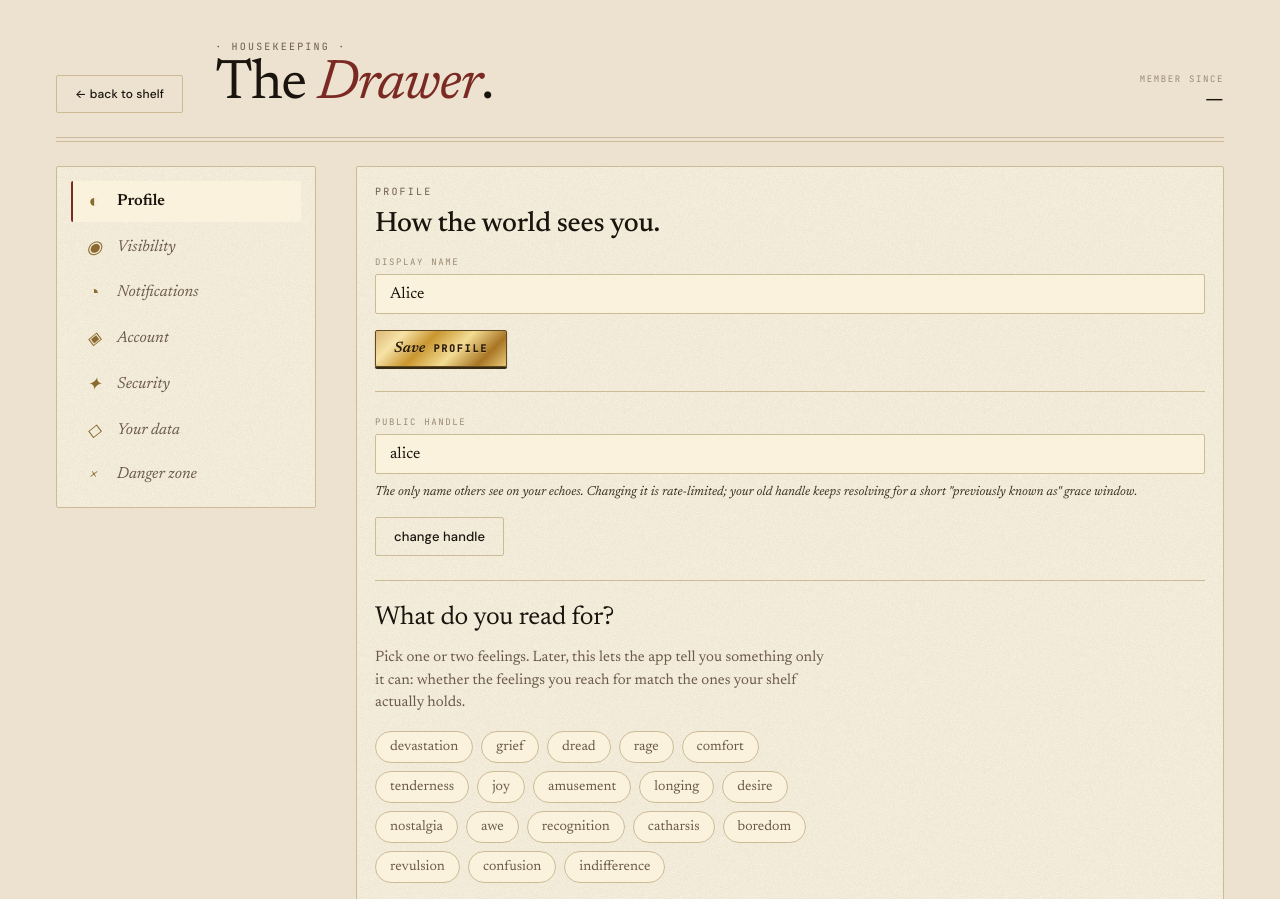
Test case: SettingsPage visibility control [F2.8 / B2.1] › loads and reflects the current profile_visibility
The image size is (1280, 899).
Click the button "◉ Visibility" at (186, 247), box [71, 226, 301, 268]
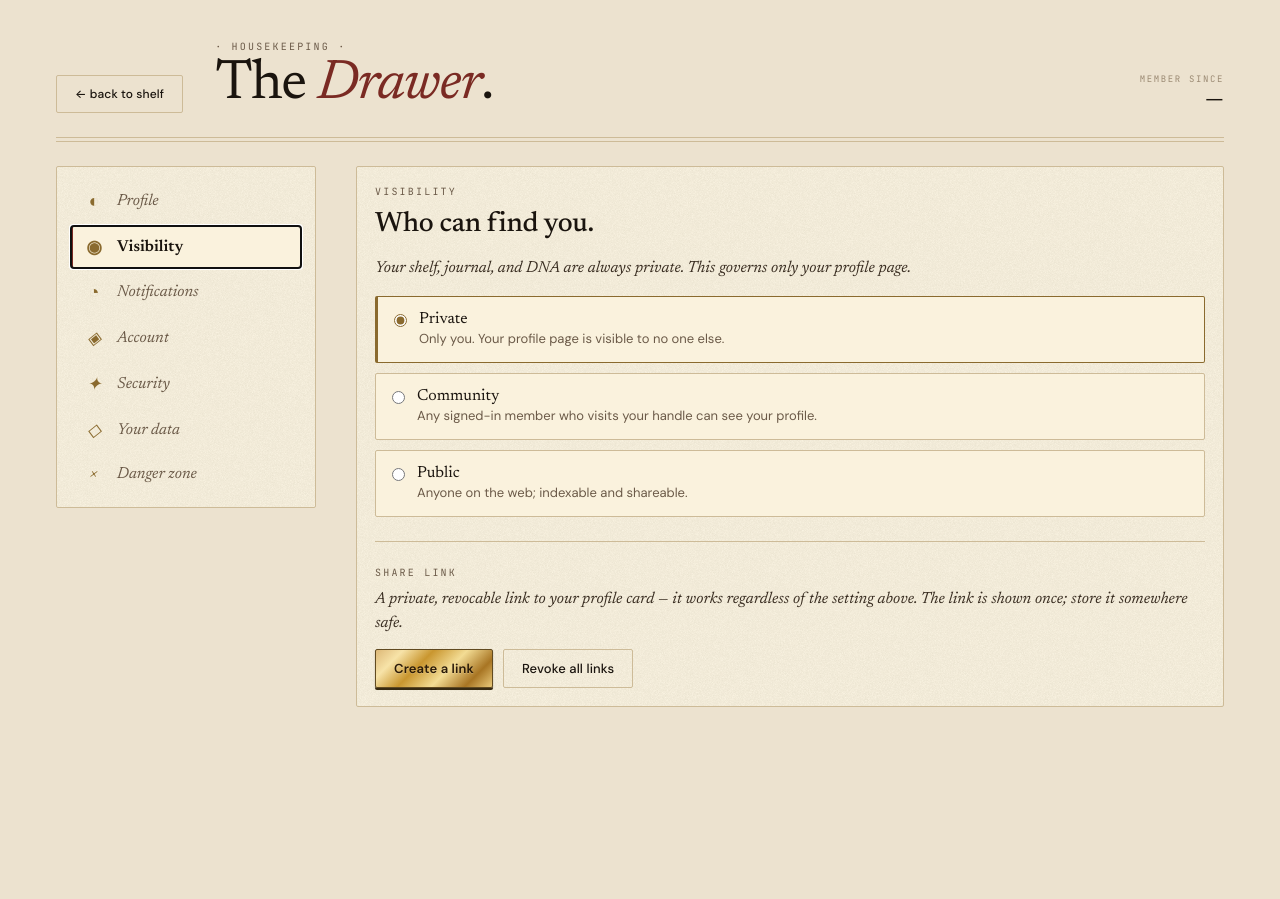
Check: the radio button labelled "Private" is checked, box [394, 314, 407, 327]
